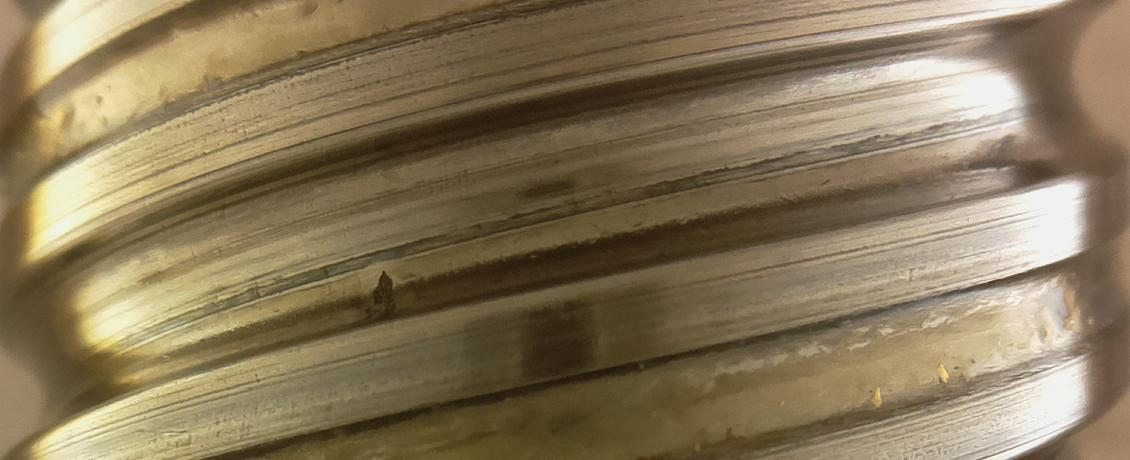pitting: (364, 269, 395, 322)
